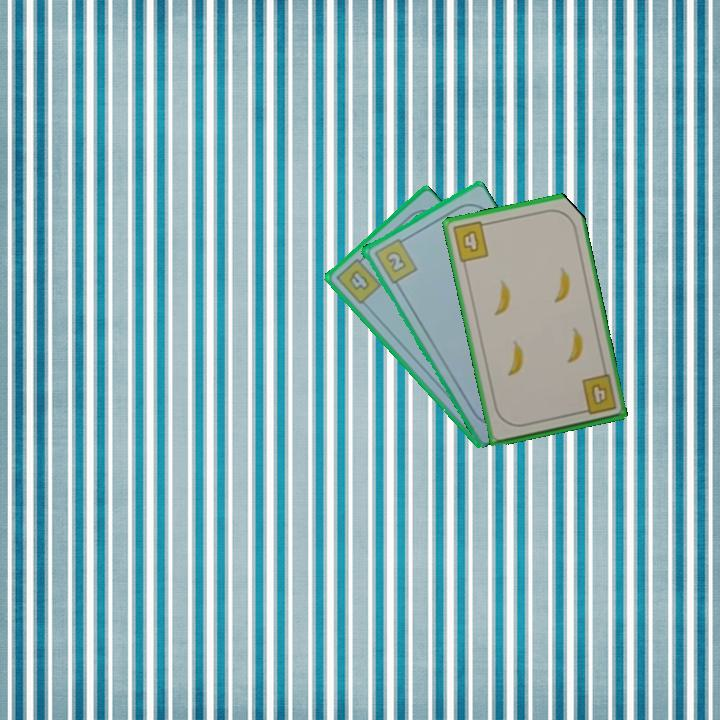2b: (370, 234, 420, 286)
4b: (332, 252, 384, 308), (575, 371, 619, 418), (449, 218, 492, 265)
